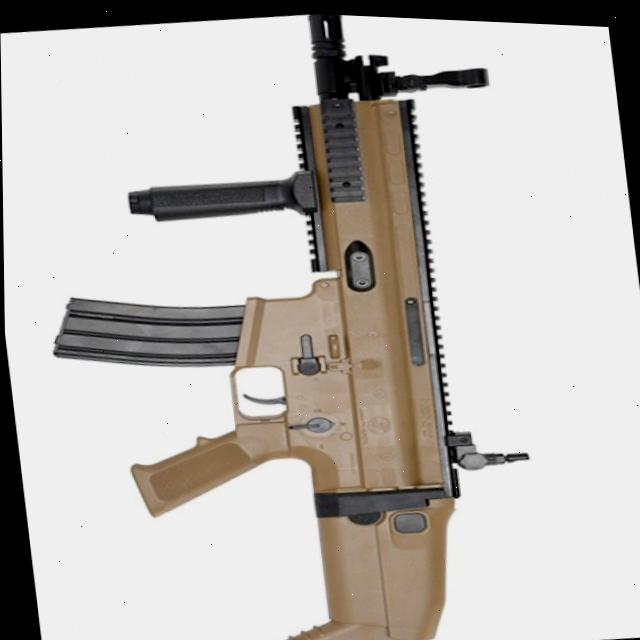firearm: (12, 0, 557, 640)
